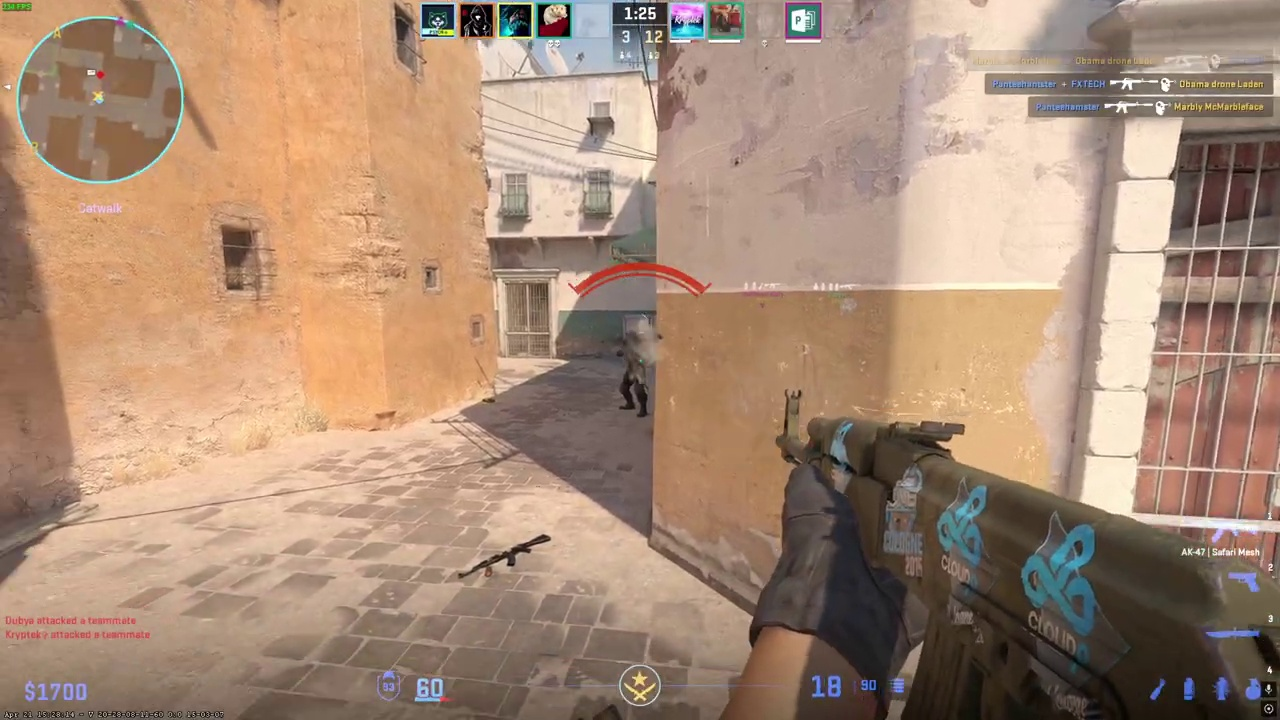CT: (615, 326, 653, 419)
